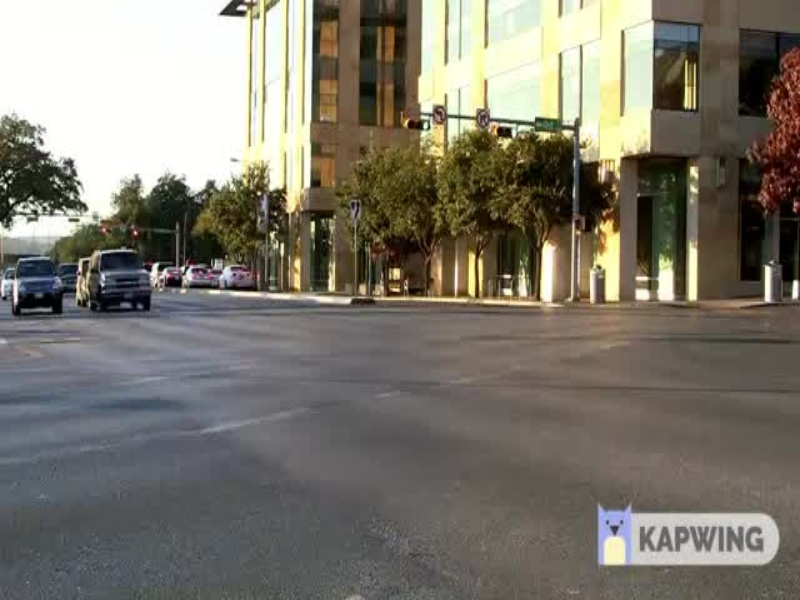car: (85, 246, 156, 311), (11, 248, 70, 315)
